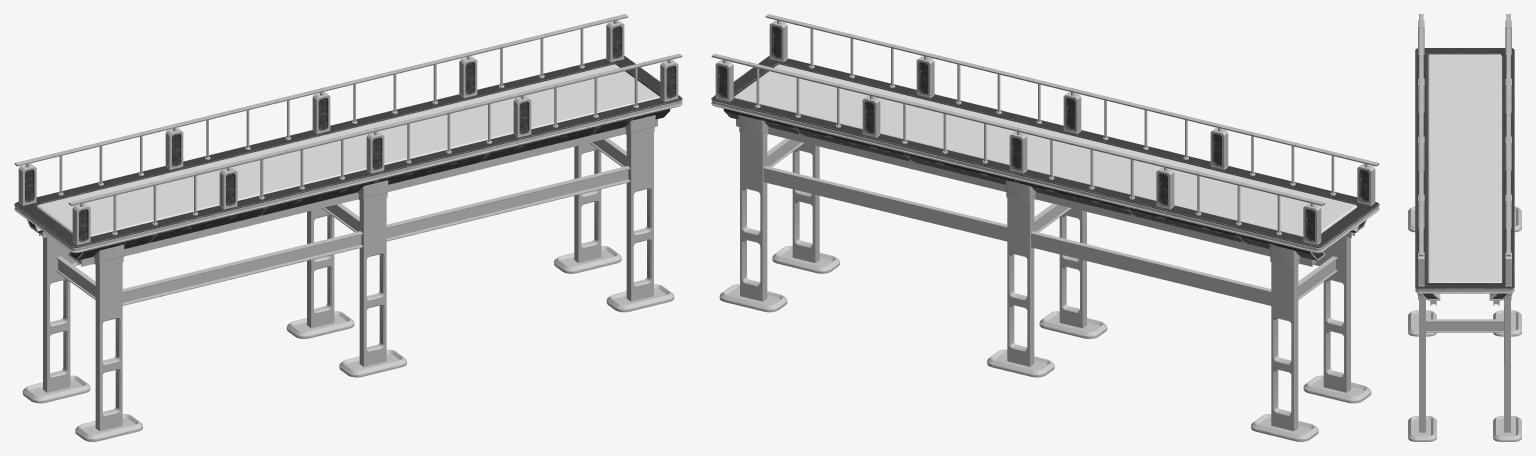
File: KB3D_MTM_PropWalkwaySystem_A.fbx
The picture shows the model from 3 angles, left to right: view 1: azimuth 30°, elevation 25°; view 2: azimuth 150°, elevation 25°; view 3: azimuth 270°, elevation 25°; orthographic projection. The views are drawn at different scales.
Visible parts, largest first — view 1: KB3D_MTM_PropWalkwaySystem_A_Main; view 2: KB3D_MTM_PropWalkwaySystem_A_Main; view 3: KB3D_MTM_PropWalkwaySystem_A_Main.
Part boxes in pixels (left/top/right/bottom): KB3D_MTM_PropWalkwaySystem_A_Main: left=14, top=14, right=682, bottom=441; KB3D_MTM_PropWalkwaySystem_A_Main: left=711, top=14, right=1379, bottom=441; KB3D_MTM_PropWalkwaySystem_A_Main: left=1408, top=14, right=1521, bottom=441.
Bounding box in the file's own units: 1657 × 614 × 330.
